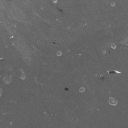corrosion: (106, 96, 119, 106), (109, 42, 117, 50), (77, 86, 86, 93), (56, 50, 63, 57), (110, 1, 116, 7), (101, 49, 107, 55)
